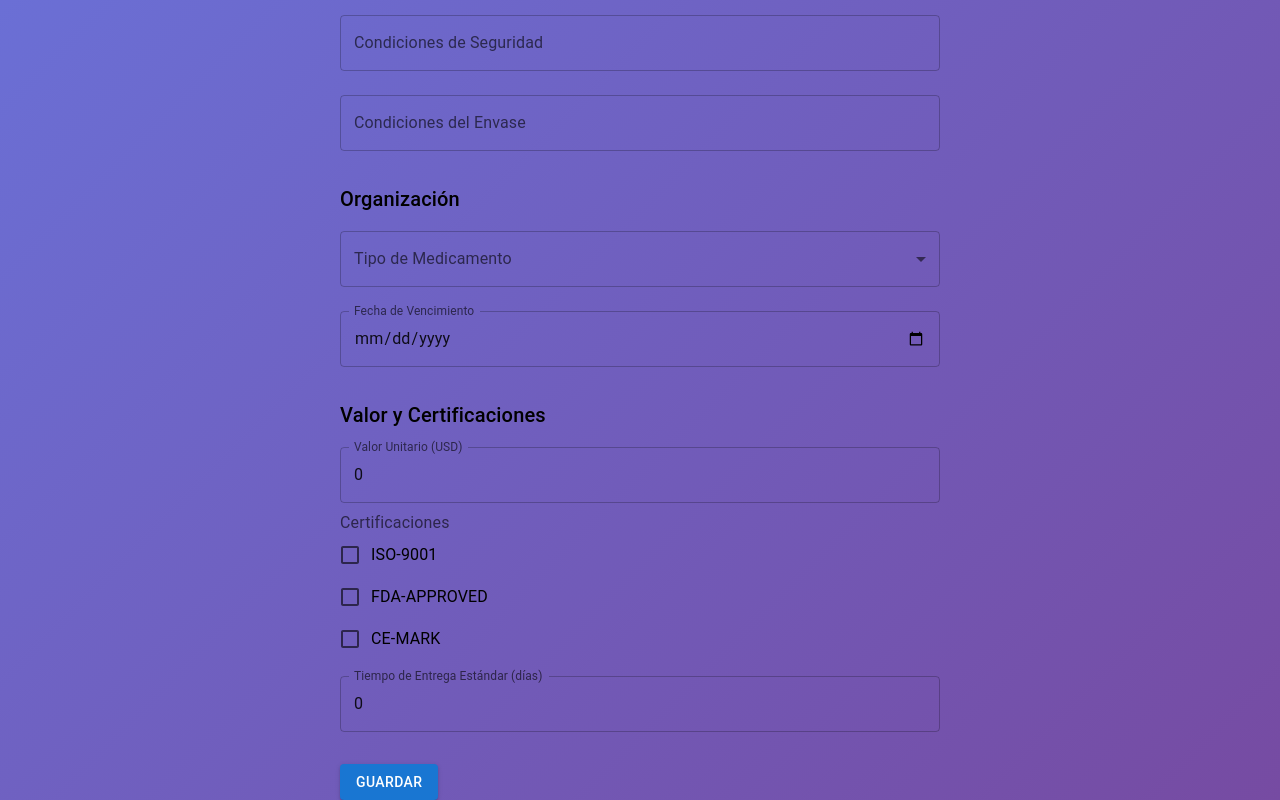
Test: ProductoForm › Validaciones de campos obligatorios › muestra errores múltiples cuando se intenta enviar sin llenar campos obligatorios
(page scrolled)
Click the button "Guardar".
click(389, 782)  # box 340,764 -> 438,799
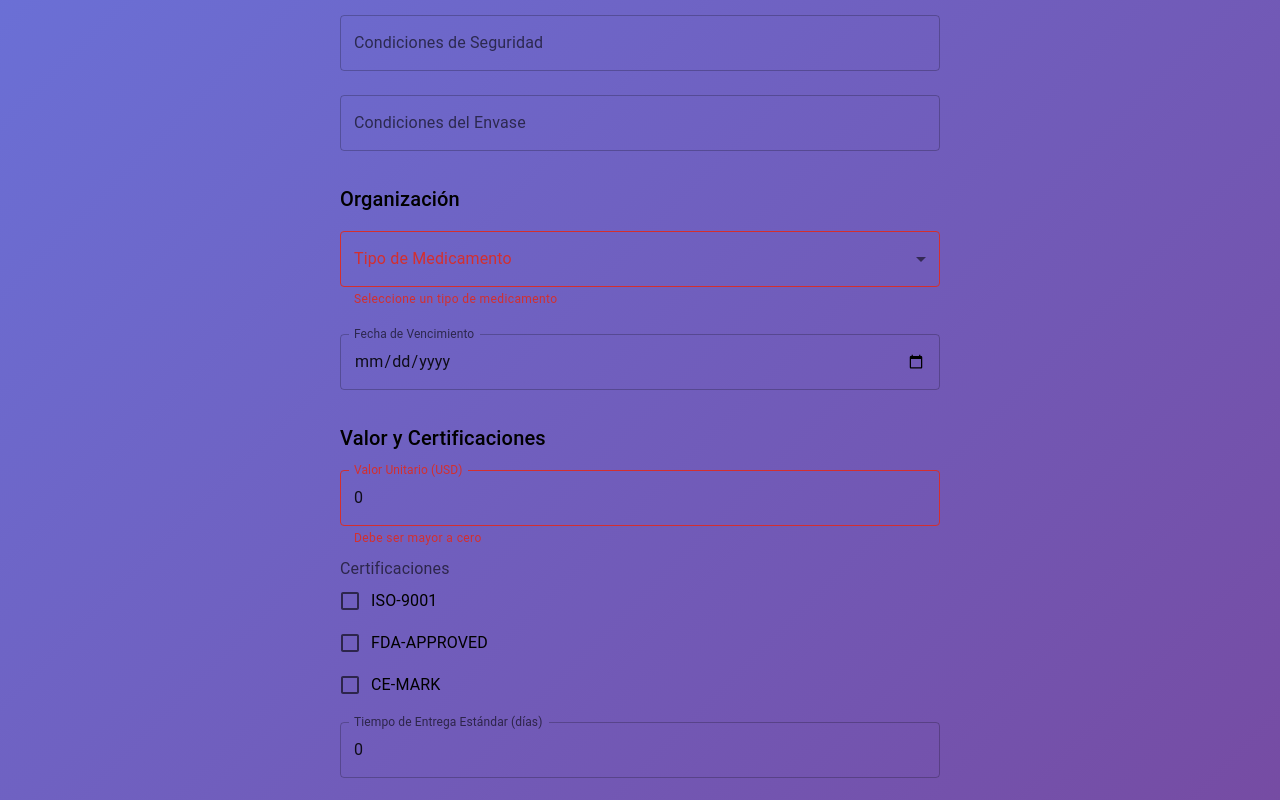
Expected: the text "Debe ser mayor a cero" is shown, 354,531 -> 482,545
